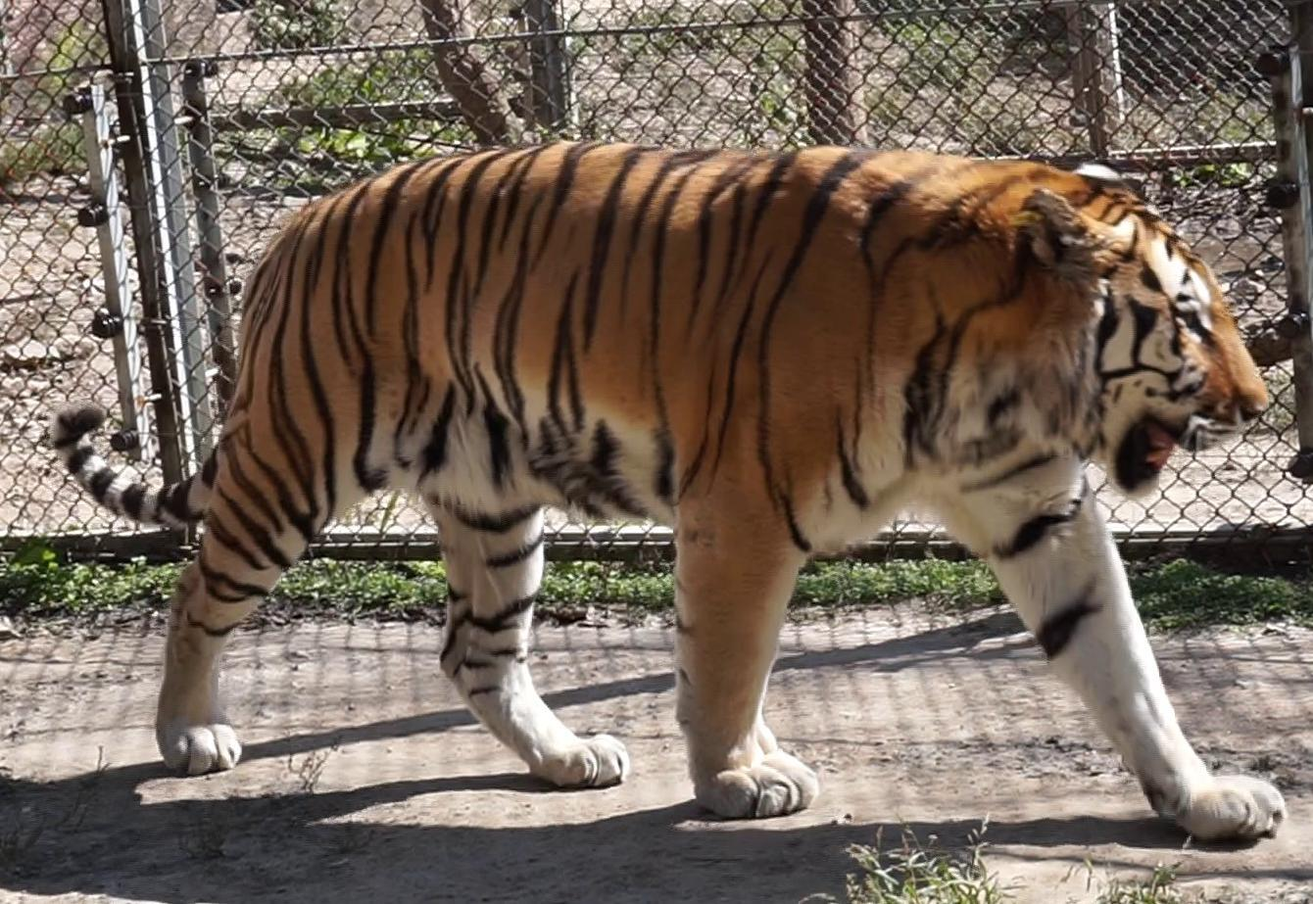tiger: (51, 141, 1286, 839)
